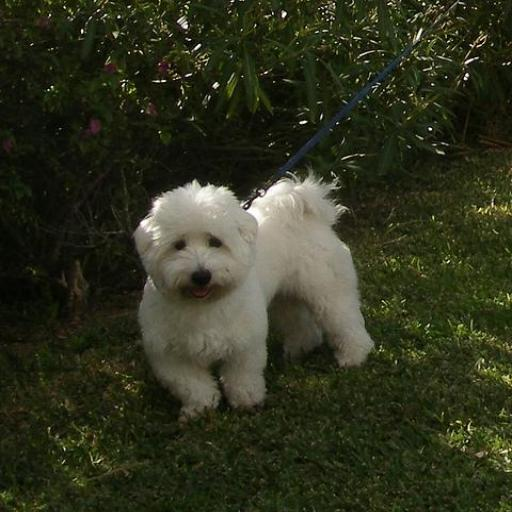dog_face: (128, 188, 247, 301)
